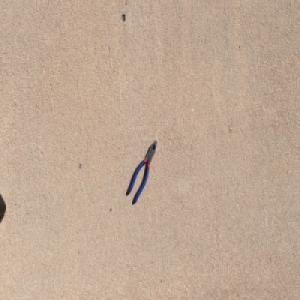Pliers: (127, 138, 157, 204)
